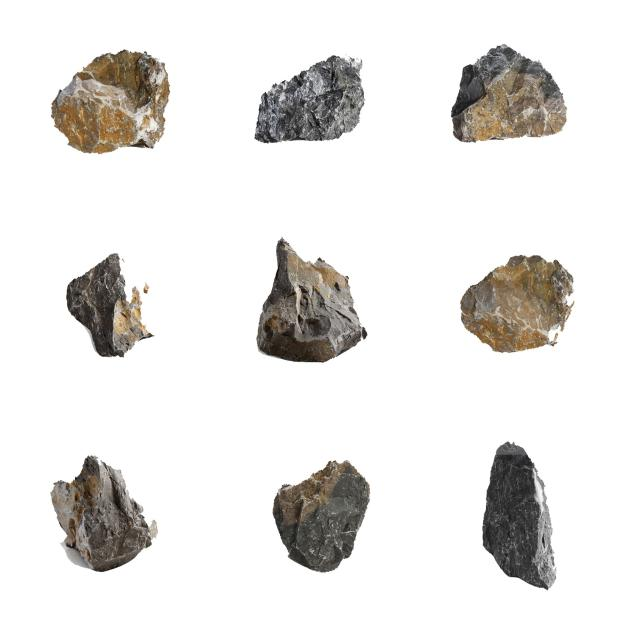Igneous: (35, 448, 184, 596), (441, 36, 581, 159), (40, 42, 176, 158), (471, 438, 572, 594), (253, 236, 368, 373), (451, 245, 582, 365), (259, 449, 380, 578), (57, 249, 155, 367), (248, 54, 368, 149)
